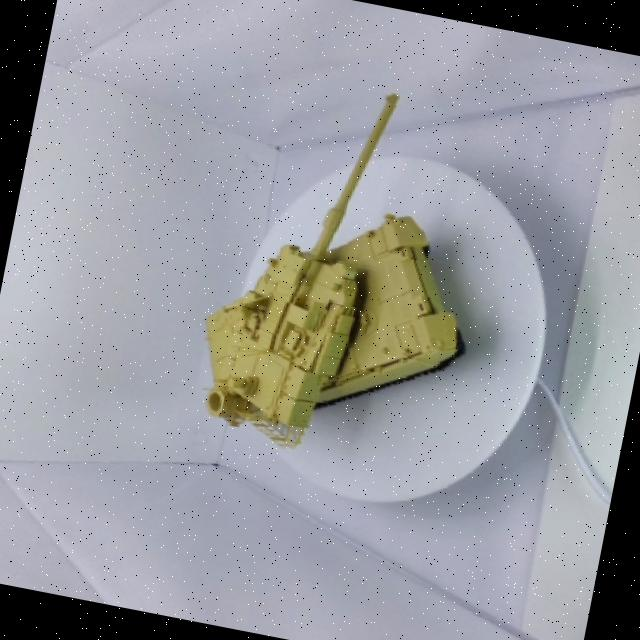korea tank: (153, 52, 534, 496)
